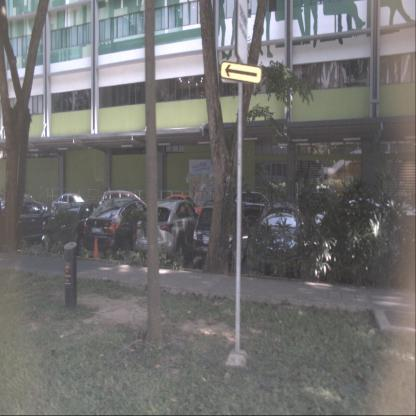movable_object-trafficcone: (92, 237, 100, 264)
vehicle-car: (83, 197, 161, 263), (136, 200, 206, 266), (42, 201, 117, 258), (193, 201, 253, 270), (254, 201, 303, 277), (0, 199, 58, 250), (225, 190, 286, 230), (99, 190, 149, 222), (159, 194, 207, 222), (51, 193, 96, 220), (10, 193, 48, 214)
